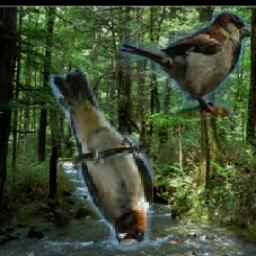Sparrow: (120, 13, 250, 118)
Swallow: (47, 69, 155, 252)
